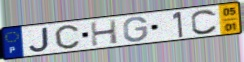1: (172, 10, 185, 38)
C: (189, 8, 219, 35), (54, 24, 82, 50)
G: (122, 16, 149, 43)
H: (89, 18, 120, 48)
J: (27, 26, 51, 53)
